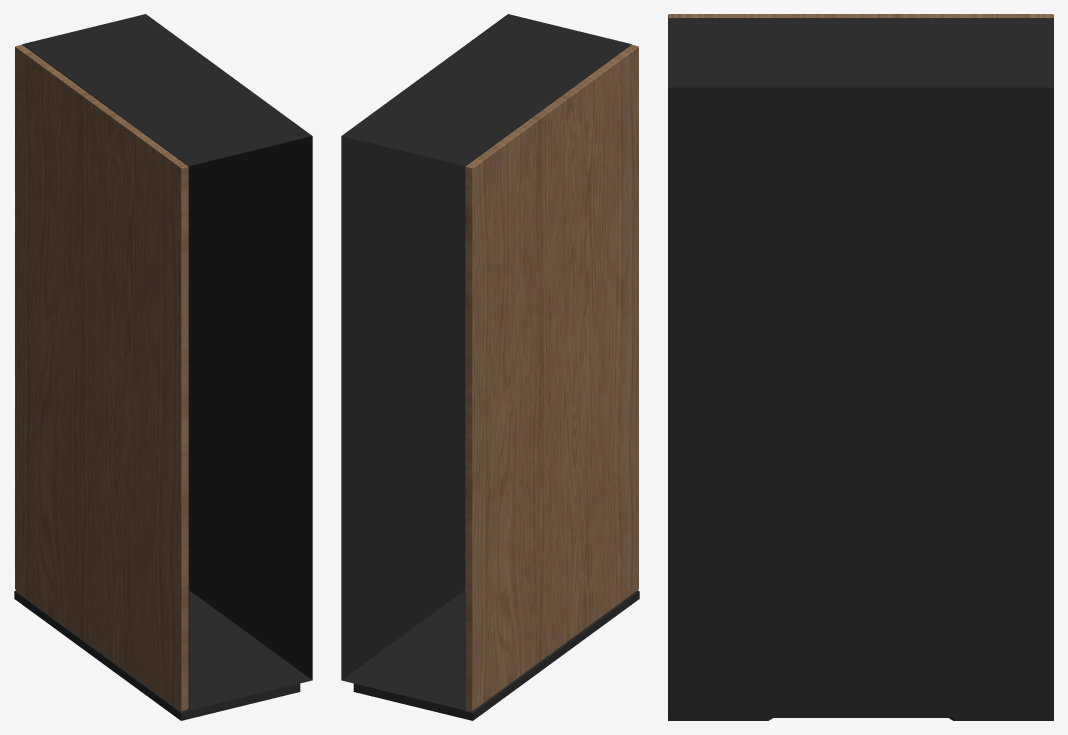
File: furniture_1.glb
The picture shows the model from 3 angles, left to right: view 1: azimuth 30°, elevation 25°; view 2: azimuth 150°, elevation 25°; view 3: azimuth 270°, elevation 25°; orthographic projection. The views are drawn at different scales.
Parts seen in each view (by area): view 1: GF_UpperFront_HoodBay, GF_UpperBox_HoodBay, GF_rangeHood02; view 2: GF_UpperFront_HoodBay, GF_UpperBox_HoodBay, GF_rangeHood02; view 3: GF_UpperBox_HoodBay, GF_UpperFront_HoodBay, GF_rangeHood02.
Part boxes in pixels (x1,y1,x2,y2): GF_UpperFront_HoodBay: (15, 44, 188, 710); GF_UpperBox_HoodBay: (22, 14, 312, 716); GF_rangeHood02: (14, 590, 300, 720); GF_UpperFront_HoodBay: (465, 44, 638, 710); GF_UpperBox_HoodBay: (341, 14, 631, 711); GF_rangeHood02: (353, 590, 639, 720); GF_UpperBox_HoodBay: (668, 18, 1053, 717); GF_UpperFront_HoodBay: (668, 14, 1053, 17); GF_rangeHood02: (668, 718, 1053, 720).
Size of the model in its own units: 0.3184 by 1.28 by 0.6992.
4 materials, 1 textured.
